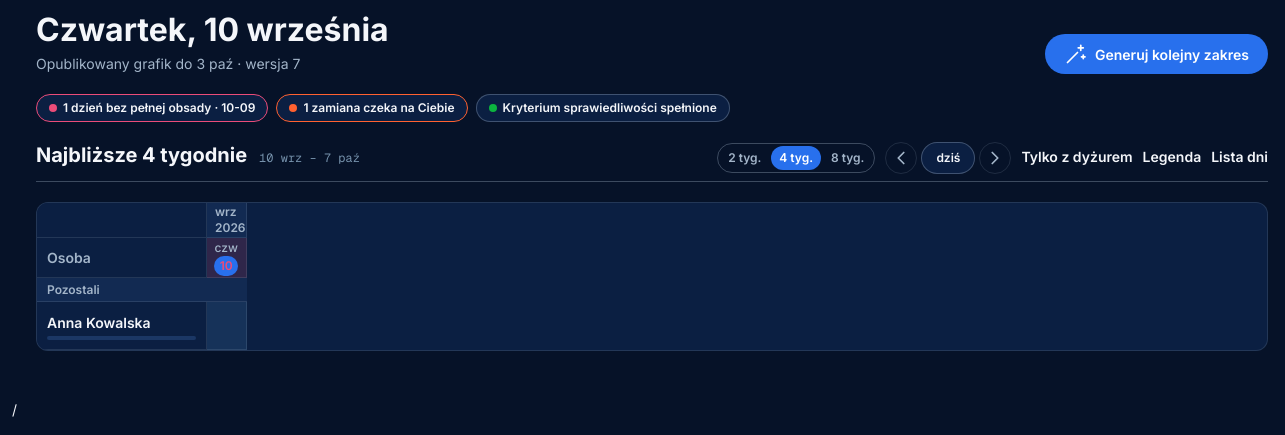
it: DutyScreen states not covered above › opens the swaps and the fairness report from their chips
Step 1. Click the button "1 zamiana czeka na Ciebie" → (372, 108), box x1=276 y1=94 x2=468 y2=122
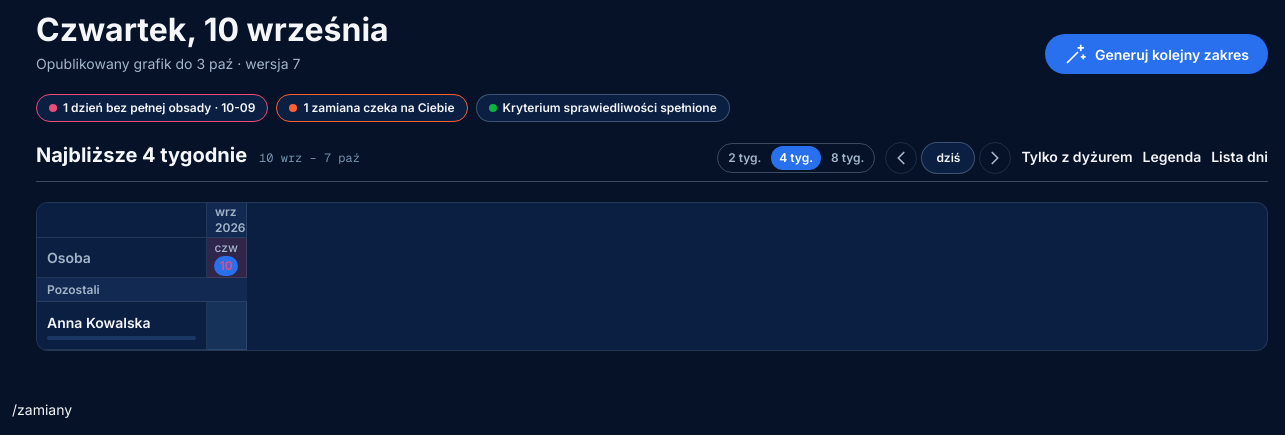
Expected: the text with test id "url" reads "/zamiany", x1=12 y1=401 x2=72 y2=418
Step 2. Click the button "Kryterium sprawiedliwości spełnione" → (603, 108), box x1=476 y1=94 x2=730 y2=122
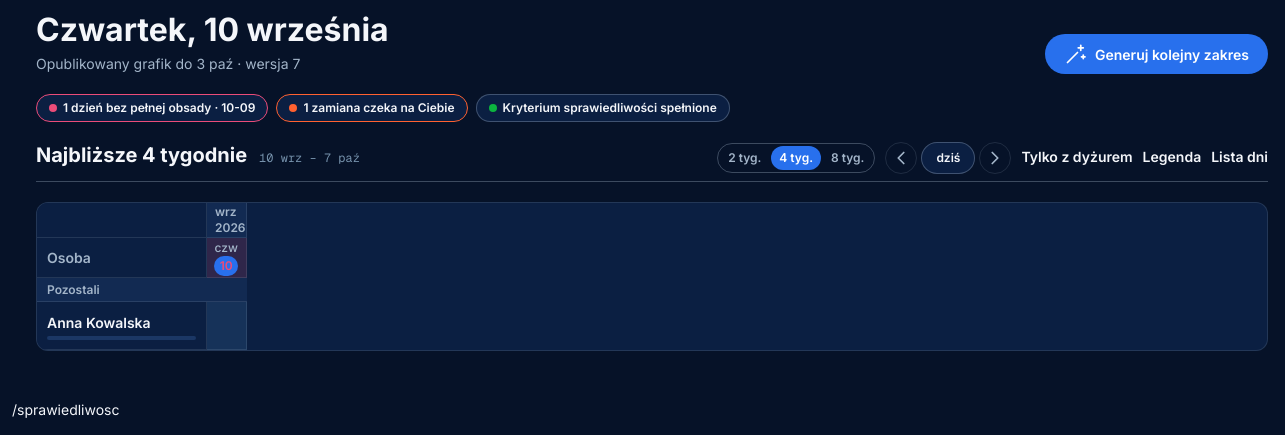
Expected: the text with test id "url" reads "/sprawiedliwosc", x1=12 y1=401 x2=120 y2=418
